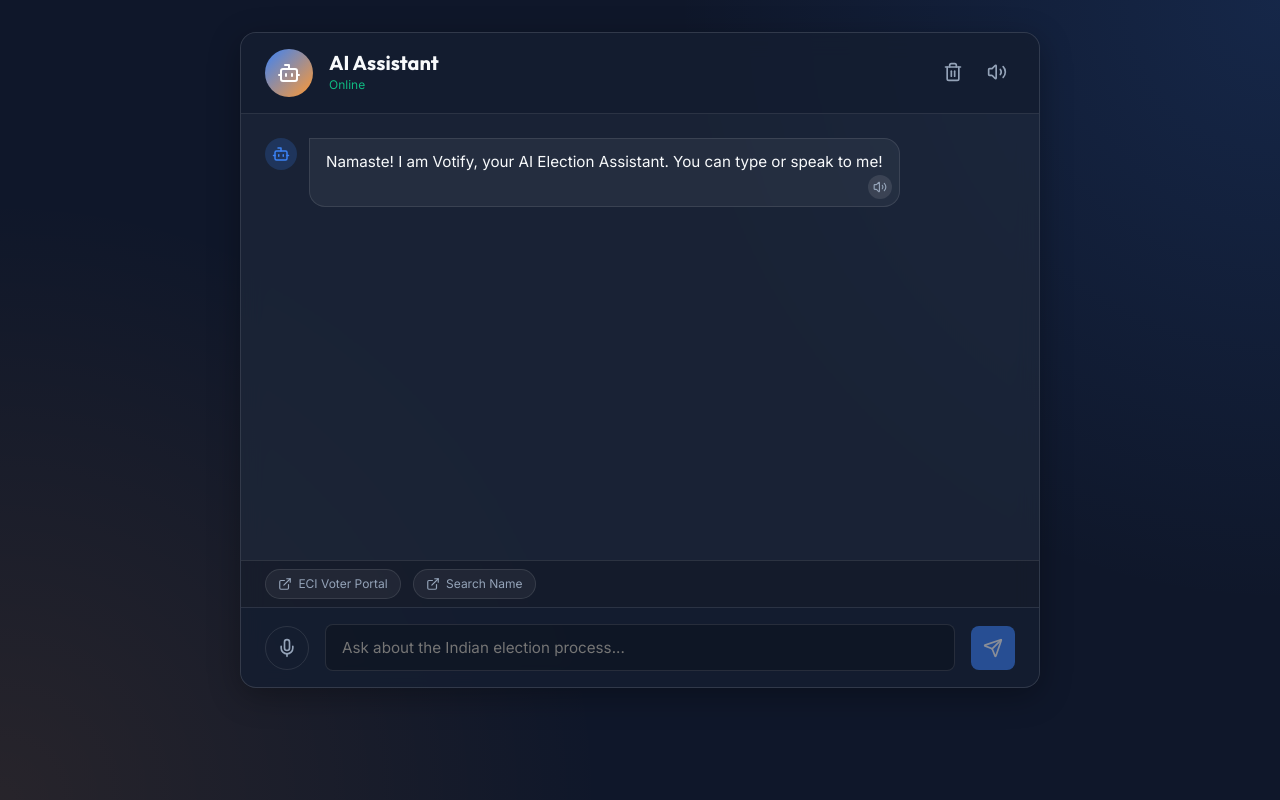
Test: ChatAssistant Component › handles API errors gracefully
Type "Trigger error" into the field with placeholder "Ask about the Indian election process..." at (640, 648), box x1=325 y1=624 x2=955 y2=671
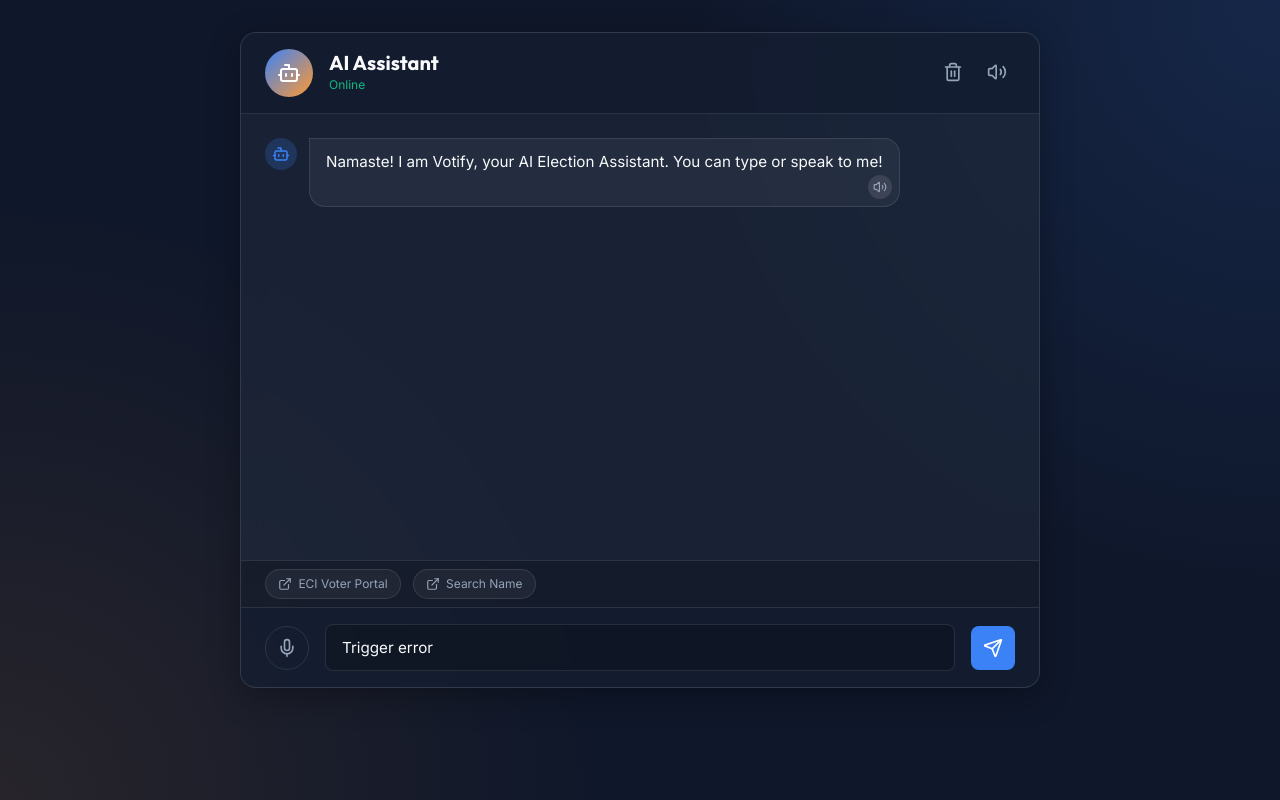
Submit the form with placeholder "Ask about the Indian election process", box x1=241 y1=607 x2=1039 y2=687
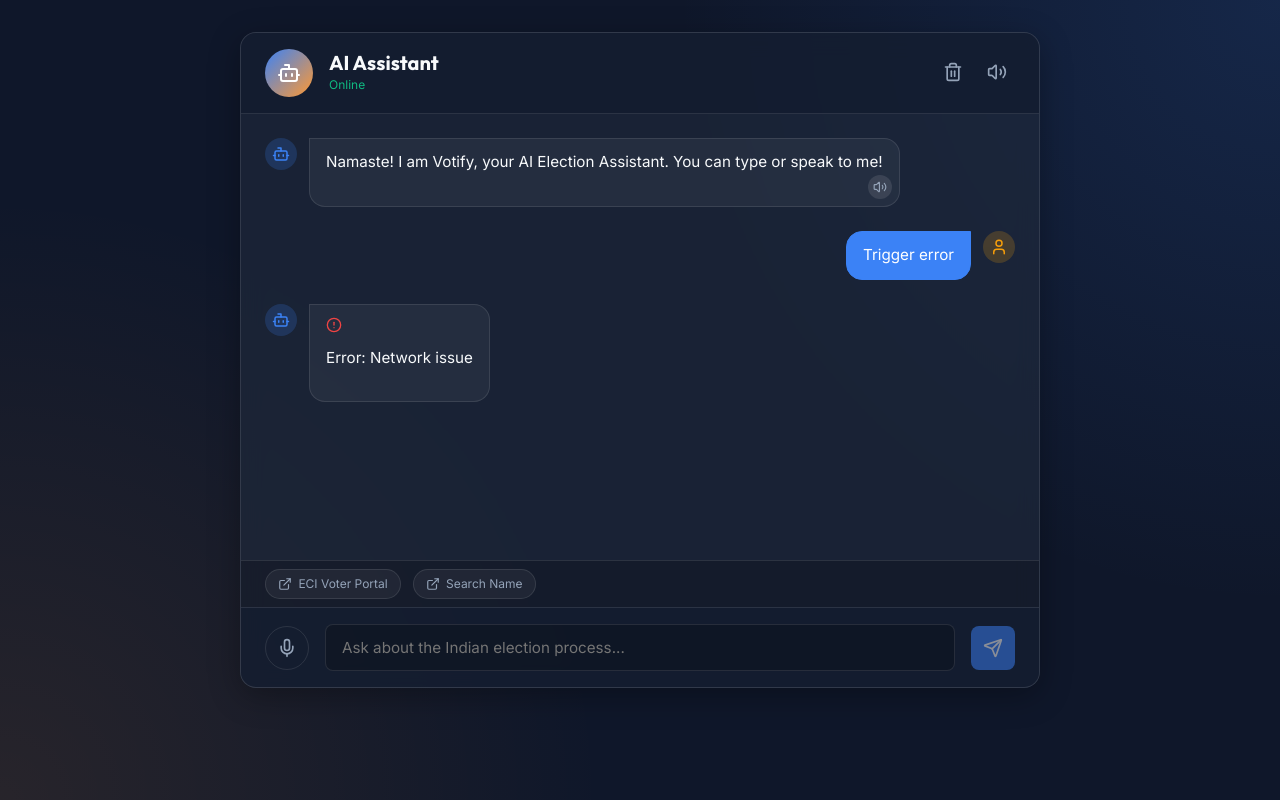
Expected: the text "Error: Network issue" is shown, x1=326 y1=348 x2=473 y2=367
